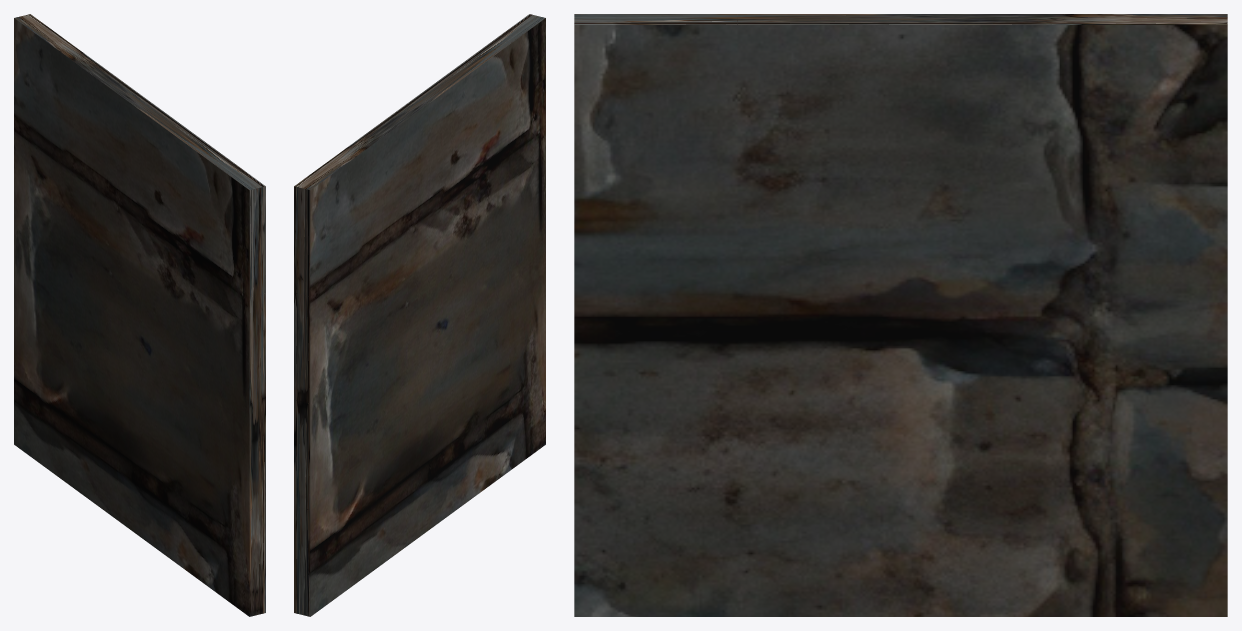
The model's file is Dungeon_Wall.fbx.
3 renders of one model, left to right at view 1: azimuth 30°, elevation 25°; view 2: azimuth 150°, elevation 25°; view 3: azimuth 270°, elevation 25°, orthographic. The views are drawn at different scales.
Parts seen in each view (by area): view 1: Cube; view 2: Cube; view 3: Cube.
Part boxes in pixels (box(x1,y1,x2,y2)): Cube: box(14, 14, 265, 616); Cube: box(294, 14, 545, 616); Cube: box(574, 14, 1227, 616).
Bounding box in the file's own units: 40 × 1000 × 1000.
1 material, 1 textured.
